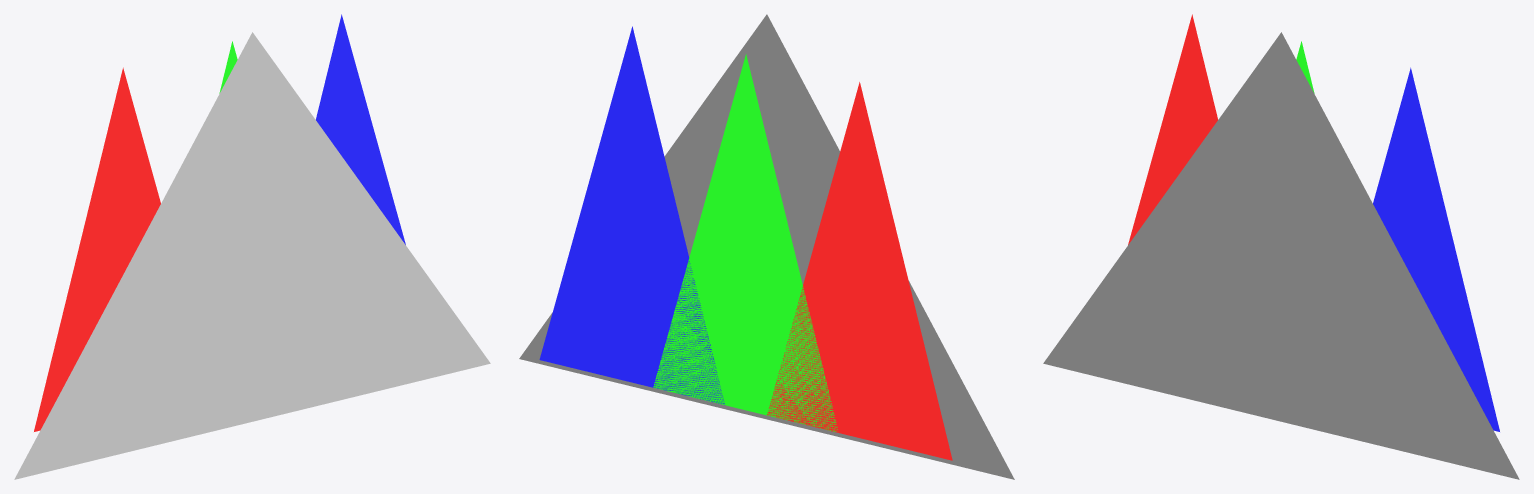
The model's file is rough_metric_refraction.gltf.
The picture shows the model from 3 angles, left to right: view 1: azimuth 30°, elevation 25°; view 2: azimuth 150°, elevation 25°; view 3: azimuth 330°, elevation 25°; orthographic projection. The views are drawn at different scales.
Parts seen in each view (by area): view 1: rough_glass, red_backdrop, blue_backdrop; view 2: green_backdrop, red_backdrop, blue_backdrop, rough_glass; view 3: rough_glass, blue_backdrop, red_backdrop.
Part boxes in pixels (x1,y1,x2,y2): rough_glass: [14, 32, 490, 479]; red_backdrop: [34, 67, 160, 431]; blue_backdrop: [316, 14, 405, 244]; green_backdrop: [653, 54, 837, 431]; red_backdrop: [767, 82, 952, 460]; blue_backdrop: [539, 26, 724, 403]; rough_glass: [519, 14, 1014, 479]; rough_glass: [1043, 32, 1519, 479]; blue_backdrop: [1373, 67, 1499, 431]; red_backdrop: [1128, 14, 1217, 244].
Bounding box in the file's own units: 4.8 × 3.75 × 0.35.
